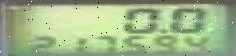-: (157, 27, 167, 32)
0: (168, 6, 201, 31), (122, 7, 155, 31)
1: (71, 35, 84, 52)
2: (28, 35, 53, 54)
4: (180, 35, 208, 50)
5: (119, 34, 145, 53)
7: (91, 34, 114, 54)
9: (150, 34, 173, 53)
